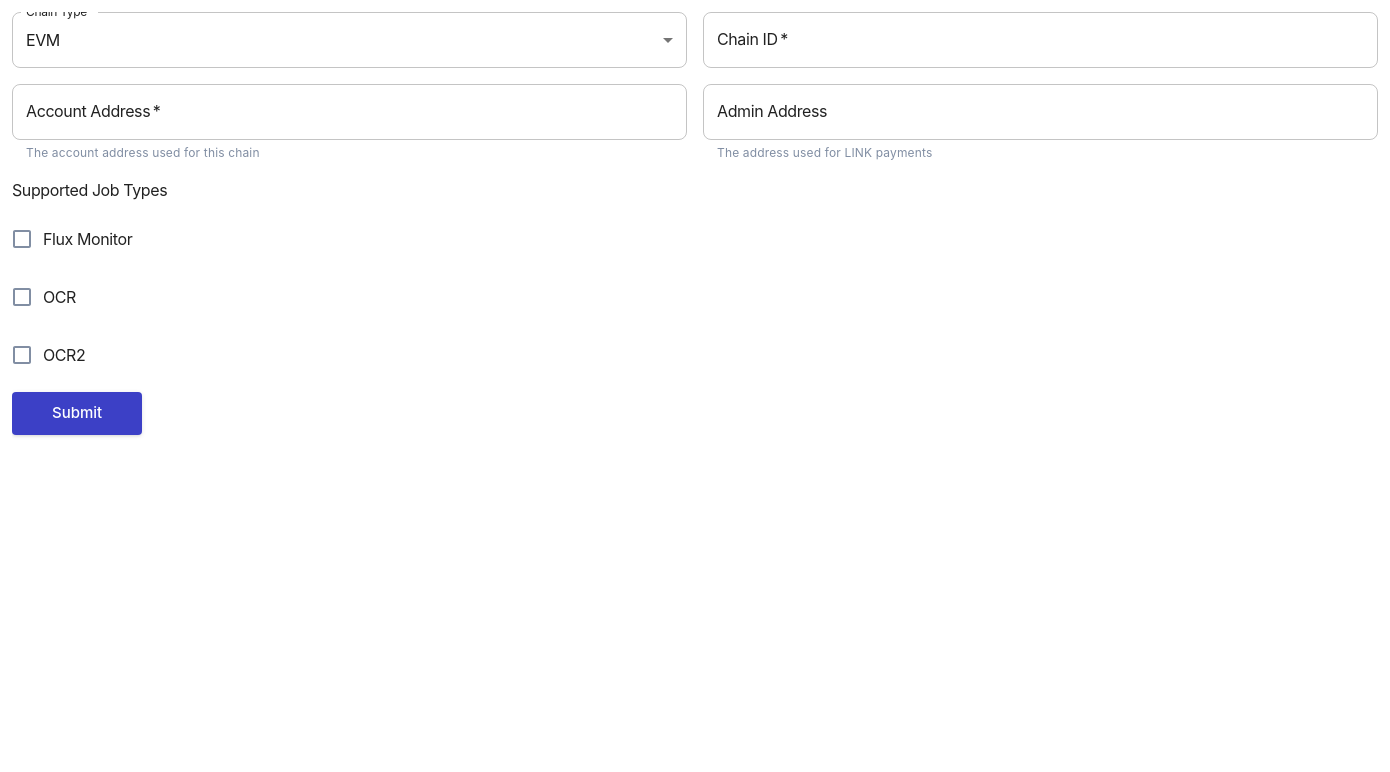
it: should be able to select OCR2 Job Type with Key Bundle ID
This screenshot has width=1390, height=772.
Click the text "OCR2" at (64, 355), box [43, 344, 85, 367]
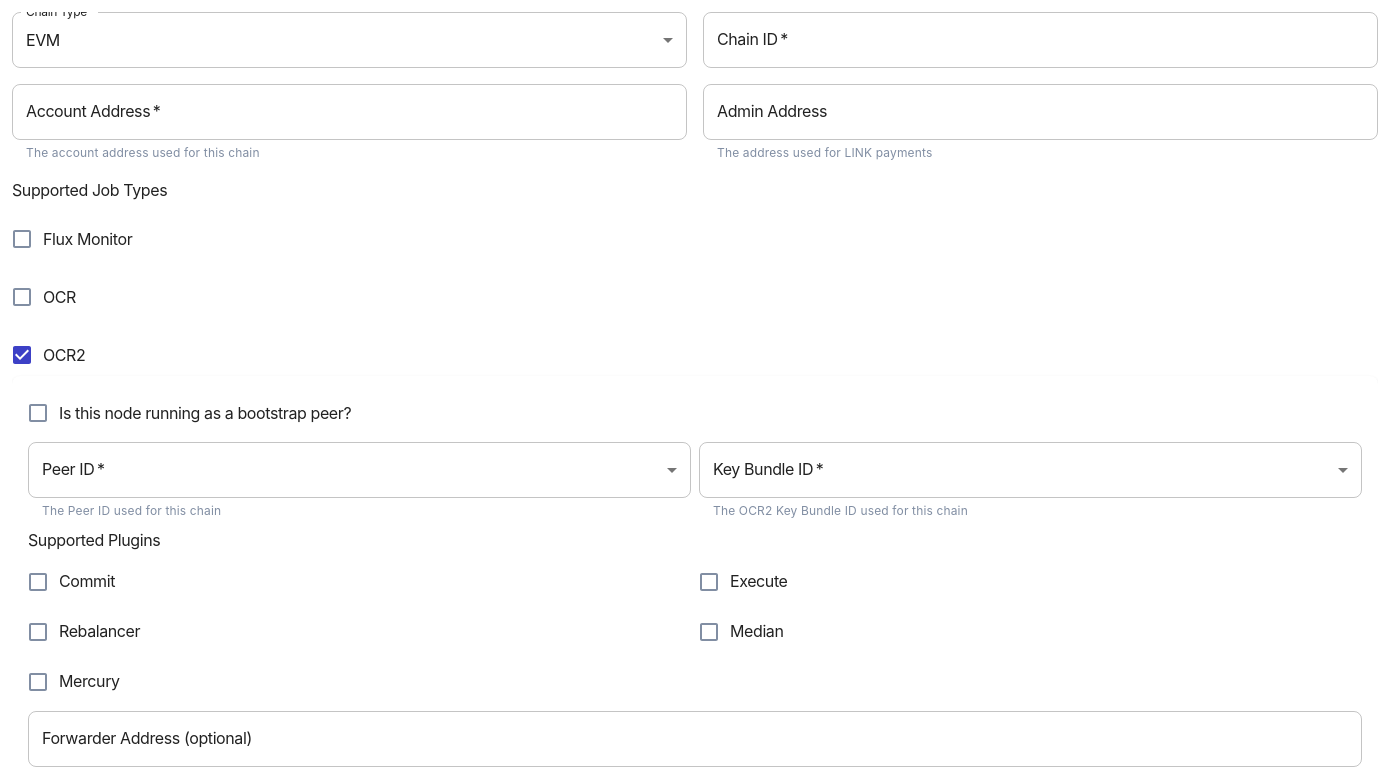
Click the 2nd dropdown named "key bundle id" at (1030, 470), box [699, 442, 1362, 498]
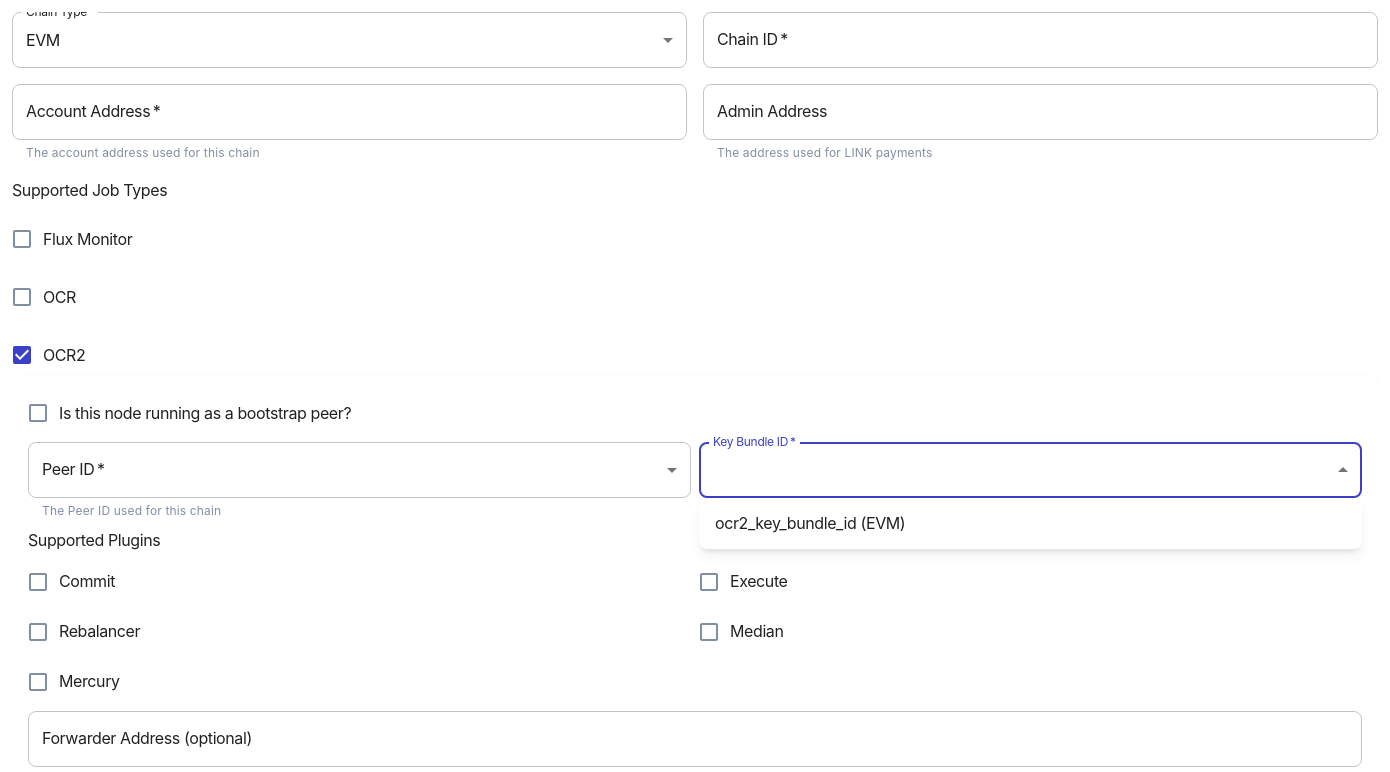
Click the option "ocr2_key_bundle_id (EVM)" at (810, 523), box [715, 513, 905, 533]
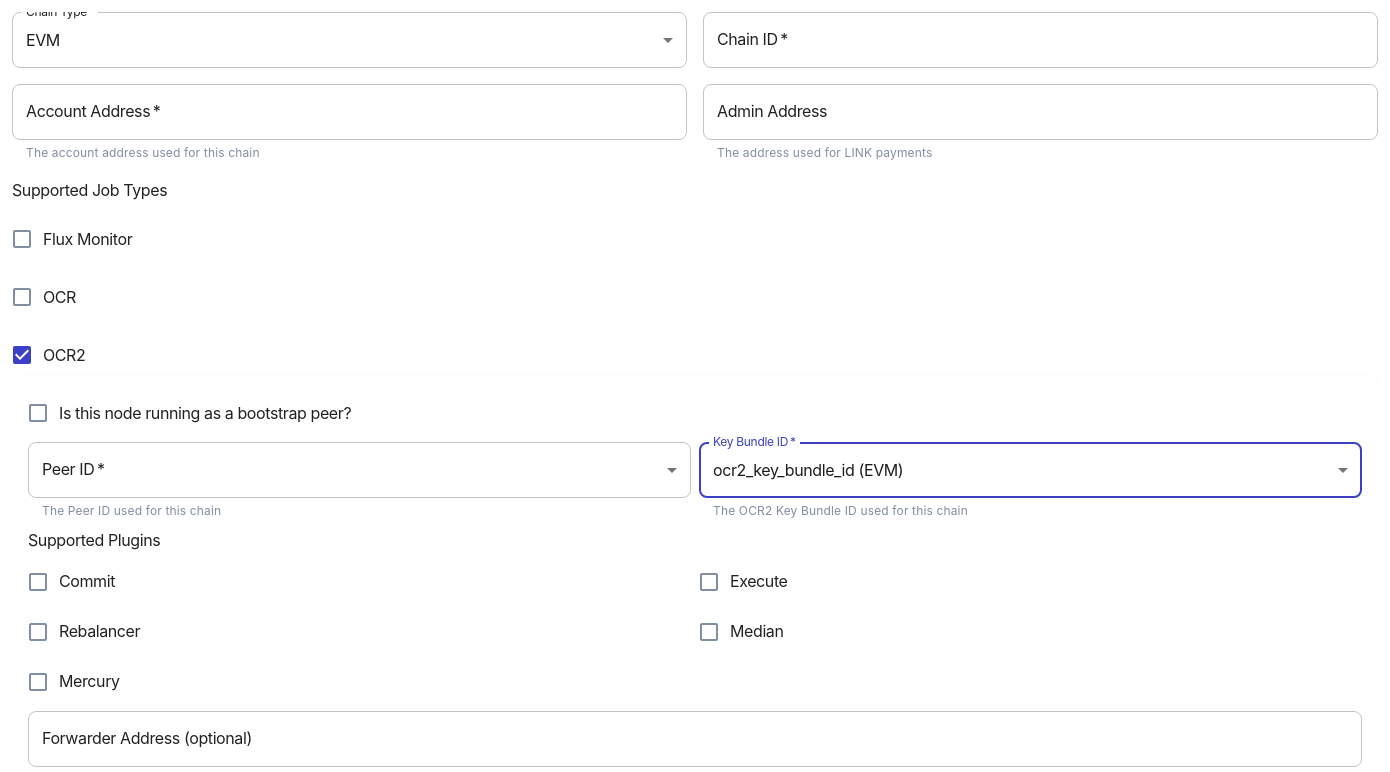
Result: the dropdown named "key bundle id" reads "ocr2_key_bundle_id (EVM)" at [713, 460, 903, 480]
